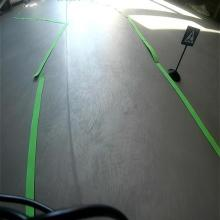crosswalk: (181, 25, 200, 47)
